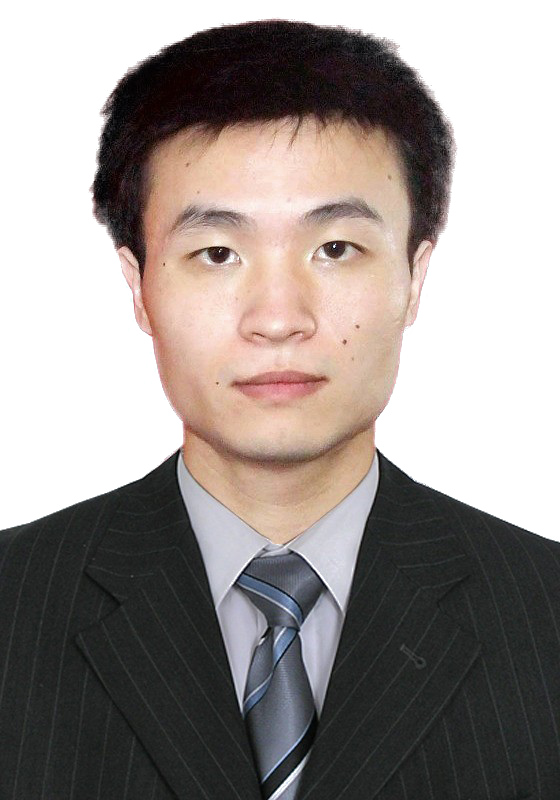unmask: (141, 137, 419, 458)
